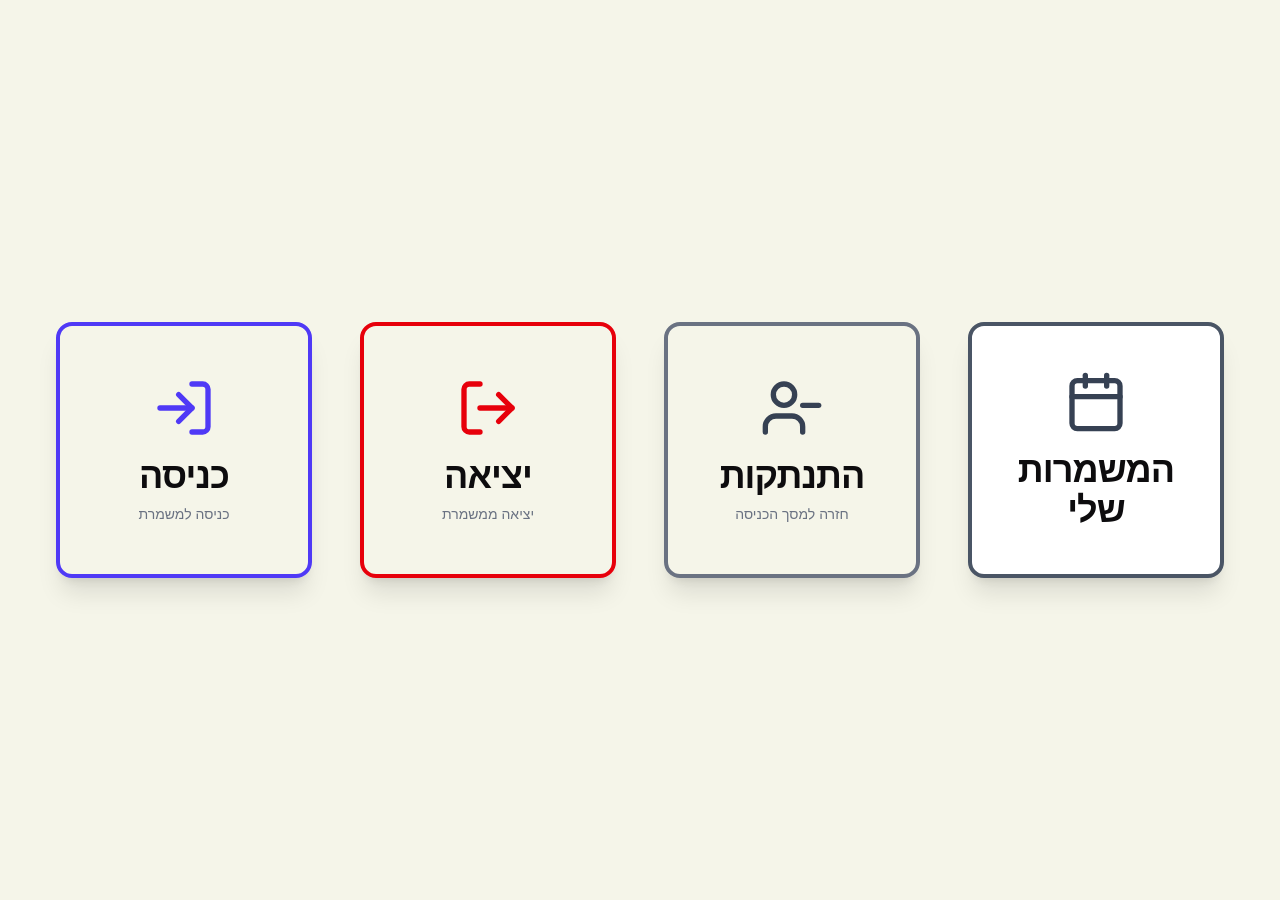
Test: IntermediatePage (Browser) › Modal closes when clicking the confirm button
Click the heading "כניסה" at (184, 476), box [139,456,229,496]
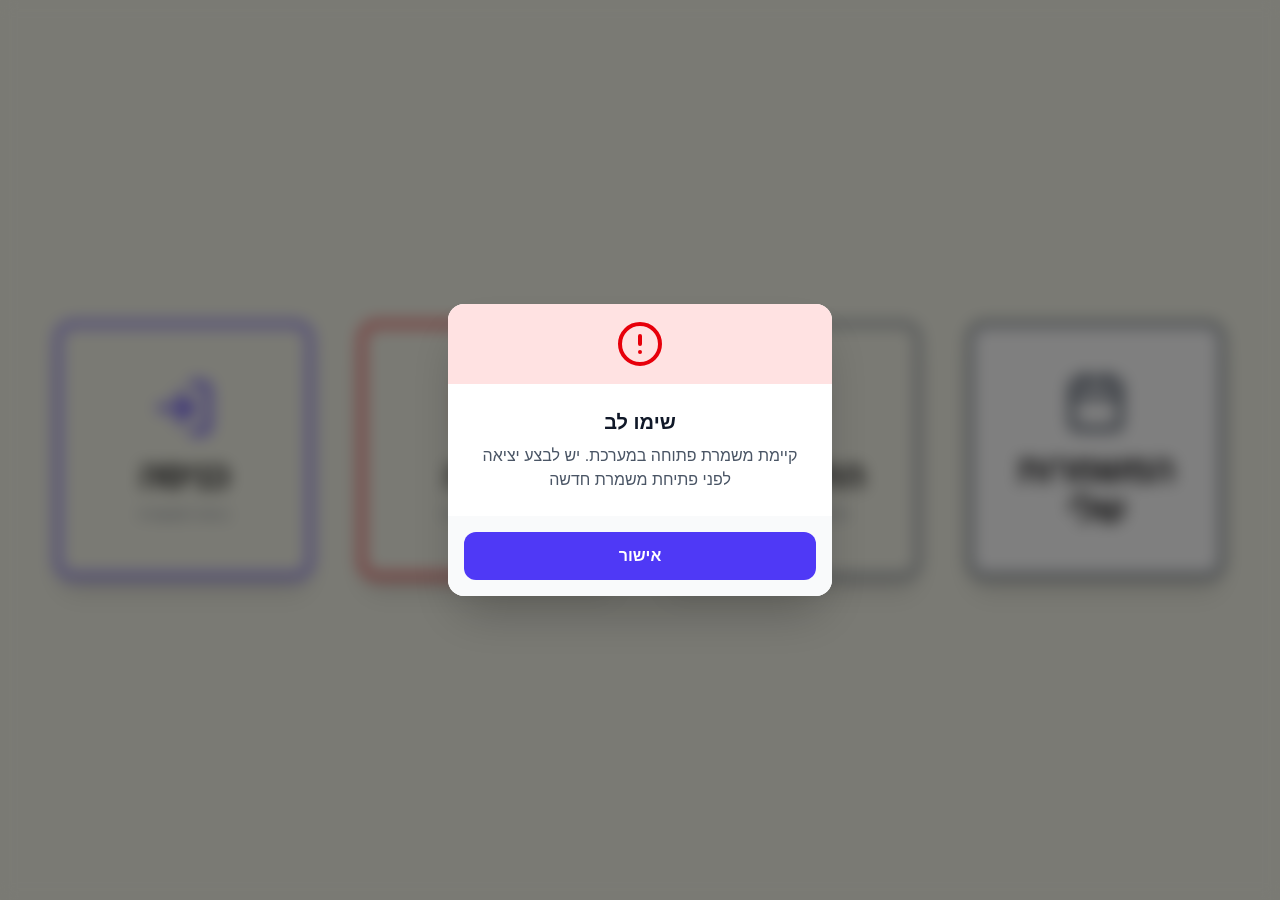
Now the heading "שימו לב" is shown, box [604,411,676,433]
Note: Click "Confirm" (אישור)
Click the button "אישור" at (640, 556), box [464,532,816,580]
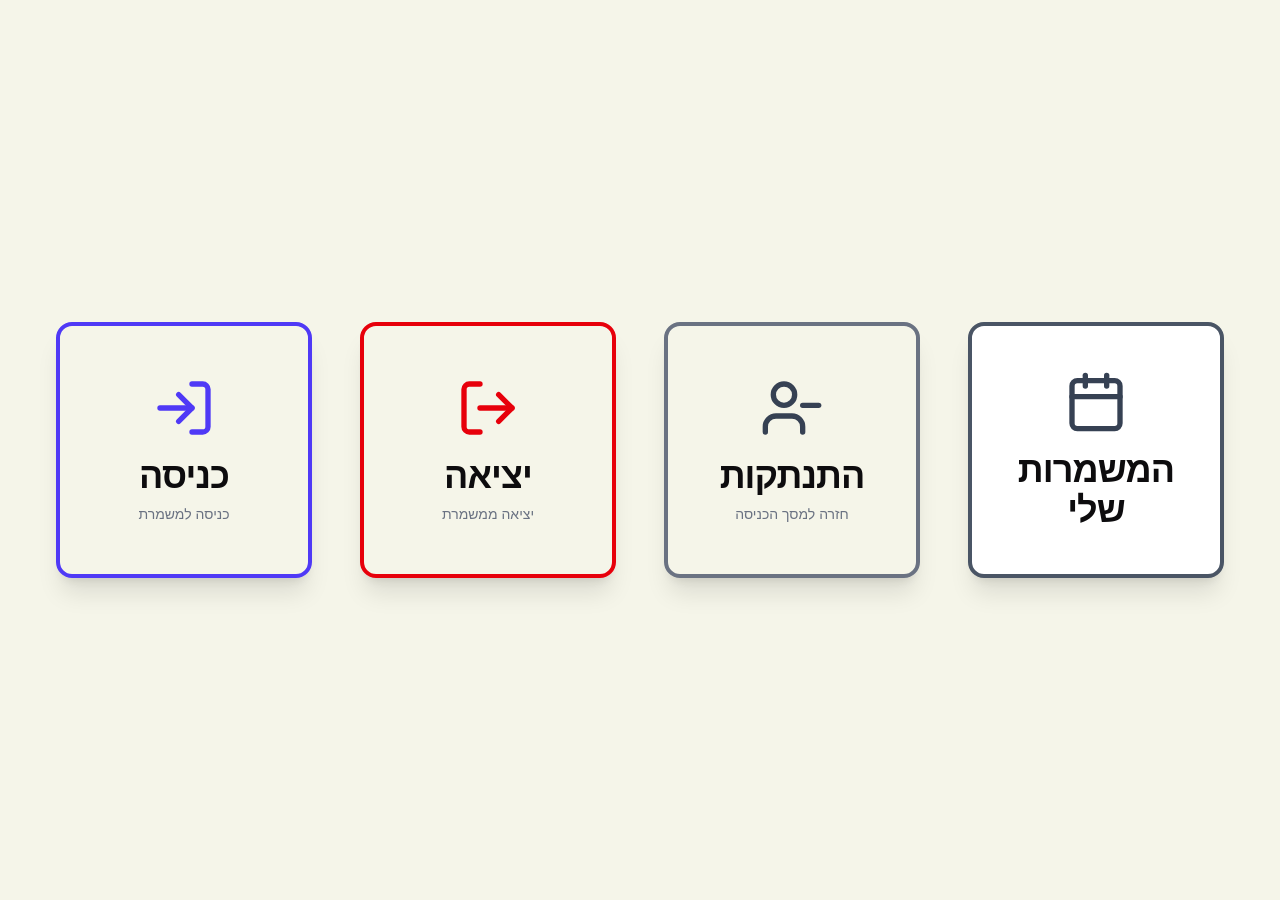
Now the heading "שימו לב" is gone
